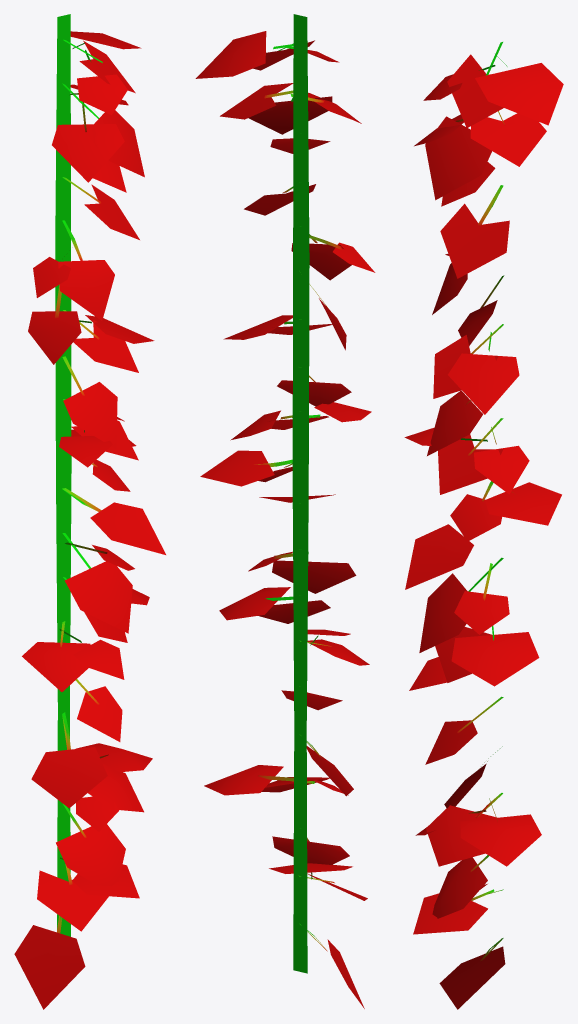
The model's file is Var13_LOD4.fbx.
3 renders of one model, left to right at view 1: azimuth 30°, elevation 25°; view 2: azimuth 150°, elevation 25°; view 3: azimuth 270°, elevation 25°, orthographic. The views are drawn at different scales.
Parts seen in each view (by area): view 1: _hikc_Var13_LOD4; view 2: _hikc_Var13_LOD4; view 3: _hikc_Var13_LOD4.
Boxes of the visible parts, x1,y1,x2,y2 form: _hikc_Var13_LOD4: (14, 14, 165, 1009); _hikc_Var13_LOD4: (195, 14, 375, 1008); _hikc_Var13_LOD4: (404, 42, 563, 1009).
Bounding box in the file's own units: 11.64 × 76.24 × 10.87.
